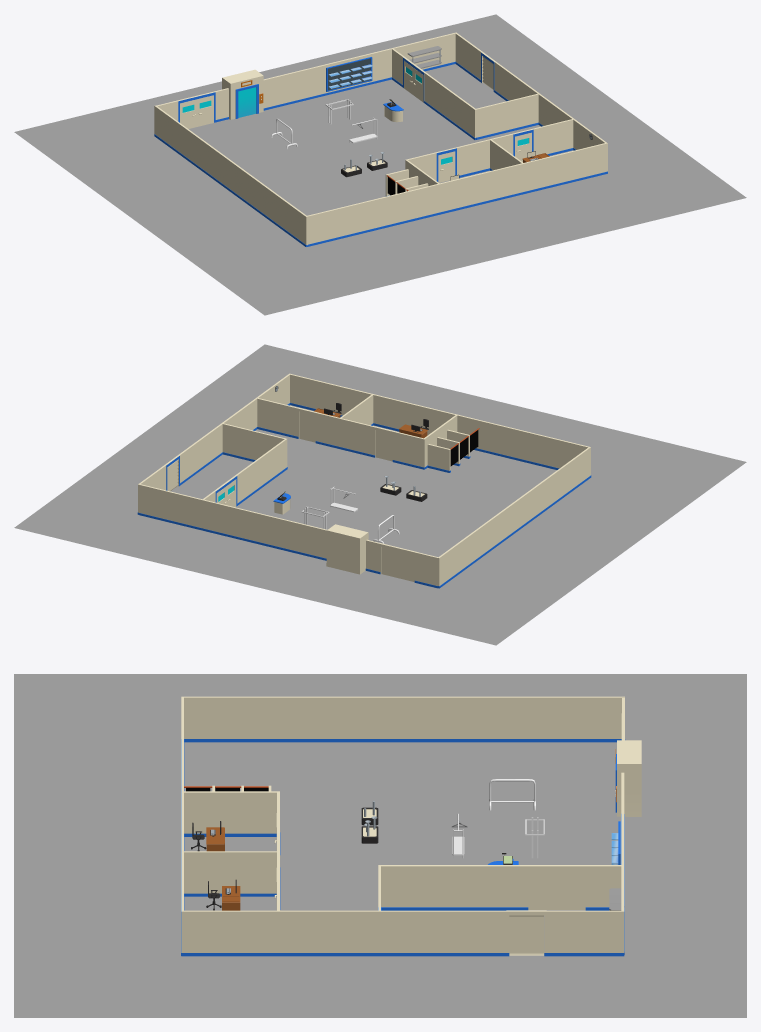
The model's file is outlet_rush.fbx.
The picture shows the model from 3 angles, top to bottom: view 1: azimuth 30°, elevation 25°; view 2: azimuth 150°, elevation 25°; view 3: azimuth 270°, elevation 25°; orthographic projection. The views are drawn at different scales.
Parts seen in each view (by area): view 1: G_floor, floor_, walll13, floor__, walll12, walll6, walll2, walll7, walll9, lift, walll16, walll3 (+6 smaller); view 2: G_floor, floor_, walll13, walll12, walll6, walll9, walll16, walll5, walll2, lift, floor__, walll7 (+7 smaller); view 3: G_floor, floor_, walll12, walll6, floor__, walll2, walll17, walll15, lift, door_slide, doors3, doors4 (+1 smaller).
Boxes of the visible parts, left/top/right/bottom form: G_floor: left=14, top=14, right=746, bottom=315; floor_: left=227, top=92, right=573, bottom=215; walll13: left=307, top=143, right=607, bottom=246; floor__: left=189, top=64, right=493, bottom=157; walll12: left=154, top=105, right=307, bottom=246; walll6: left=455, top=32, right=607, bottom=170; walll2: left=391, top=48, right=476, bottom=139; walll7: left=476, top=93, right=539, bottom=139; walll9: left=482, top=119, right=573, bottom=171; lift: left=222, top=69, right=263, bottom=119; walll16: left=405, top=141, right=482, bottom=181; walll3: left=263, top=70, right=301, bottom=110; G_floor: left=14, top=344, right=746, bottom=645; floor_: left=180, top=405, right=556, bottom=551; walll13: left=290, top=374, right=588, bottom=469; walll12: left=437, top=447, right=591, bottom=588; walll6: left=137, top=373, right=290, bottom=514; walll9: left=257, top=398, right=348, bottom=450; walll16: left=347, top=420, right=425, bottom=469; walll5: left=139, top=484, right=201, bottom=530; walll2: left=201, top=438, right=287, bottom=530; lift: left=326, top=524, right=368, bottom=574; floor__: left=144, top=486, right=445, bottom=582; walll7: left=222, top=423, right=285, bottom=461; G_floor: left=14, top=674, right=746, bottom=1017; floor_: left=184, top=742, right=508, bottom=910; walll12: left=181, top=696, right=624, bottom=742; walll6: left=181, top=910, right=624, bottom=956; floor__: left=508, top=742, right=620, bottom=955; walll2: left=378, top=865, right=624, bottom=910; walll17: left=183, top=791, right=276, bottom=836; walll15: left=183, top=851, right=276, bottom=896; lift: left=615, top=740, right=641, bottom=816; door_slide: left=509, top=915, right=543, bottom=955; doors3: left=528, top=870, right=556, bottom=909; doors4: left=557, top=870, right=585, bottom=909.
Size of the model in its own units: 4316 by 350 by 3887.
Materials: 14 (7 with a texture image).
